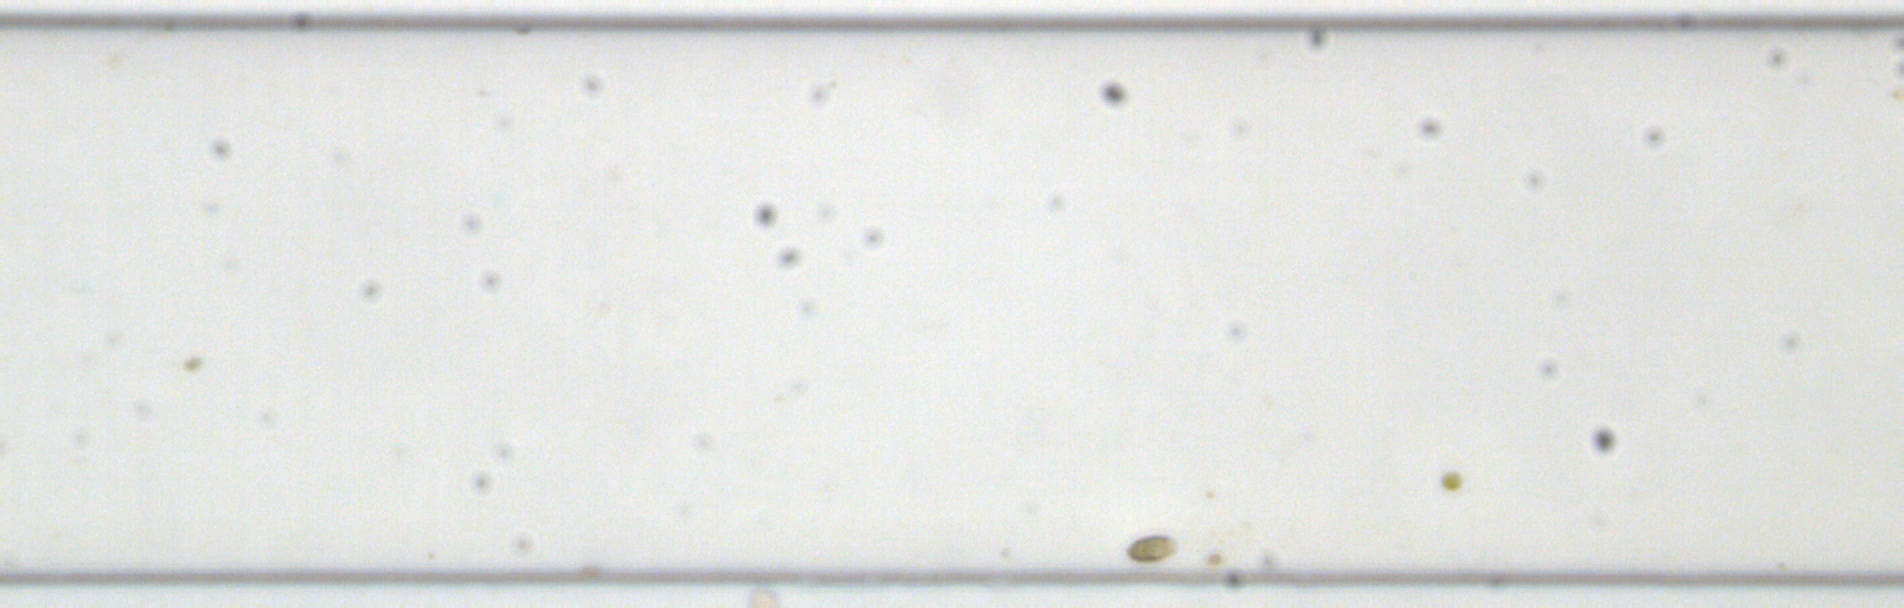Chlorella: (1438, 467, 1461, 491), (182, 353, 203, 373), (1205, 550, 1223, 566)
Dunaliella salina: (1122, 527, 1178, 564)
